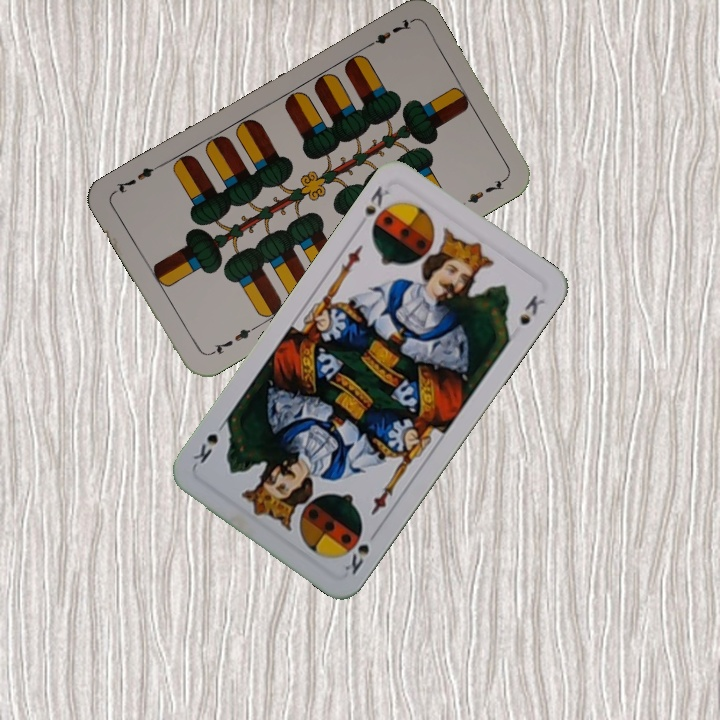E7: (205, 322, 259, 359), (360, 15, 414, 52)
SK: (360, 182, 394, 218), (340, 540, 372, 578)
